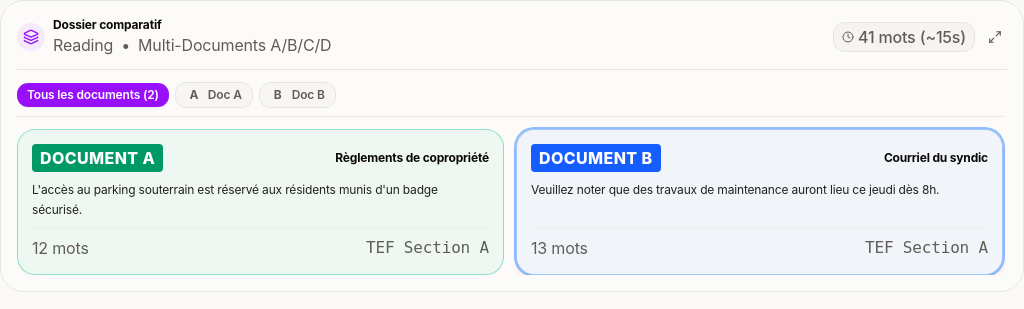
Test case: StimulusRenderer Component › renders multi-document bundles with interactive tabs and switches active tab
This screenshot has width=1024, height=309.
Expected: the button "Tous les documents (2)" is shown, x1=17 y1=83 x2=169 y2=107
Expected: the text "Doc A" is shown, x1=208 y1=87 x2=242 y2=103
// Click on Doc B tab
Click the text "Doc B" at (308, 95), box x1=292 y1=87 x2=325 y2=103
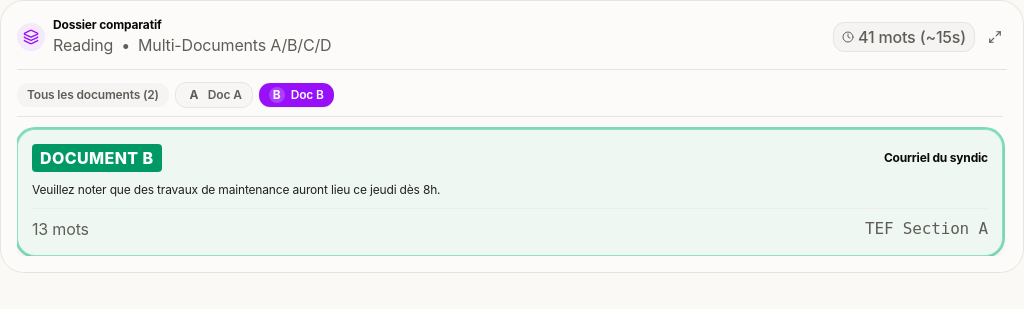
Expected: the text "Veuillez noter que des travaux de maintenance" is shown, x1=32 y1=182 x2=440 y2=197
Expected: the text "L'accès au parking souterrain" is gone
